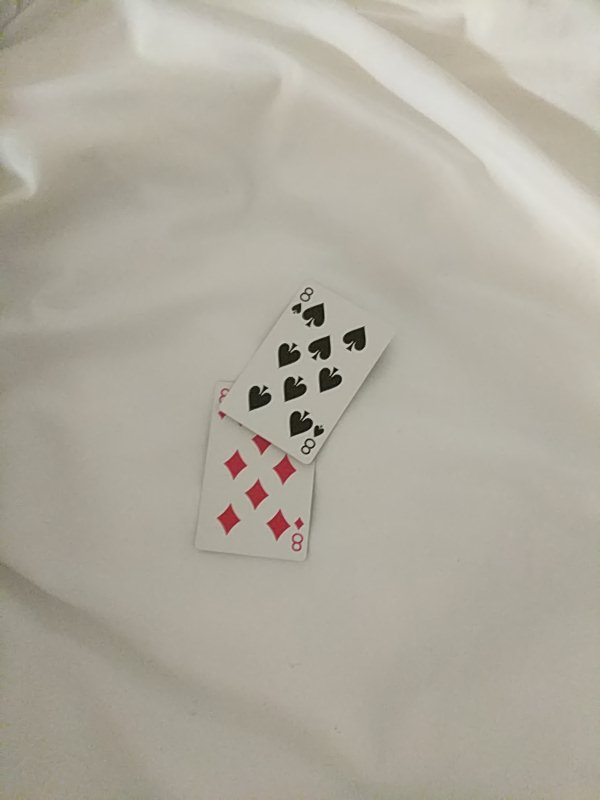Diamonds: (193, 382, 315, 561)
Spades: (220, 281, 407, 465)
